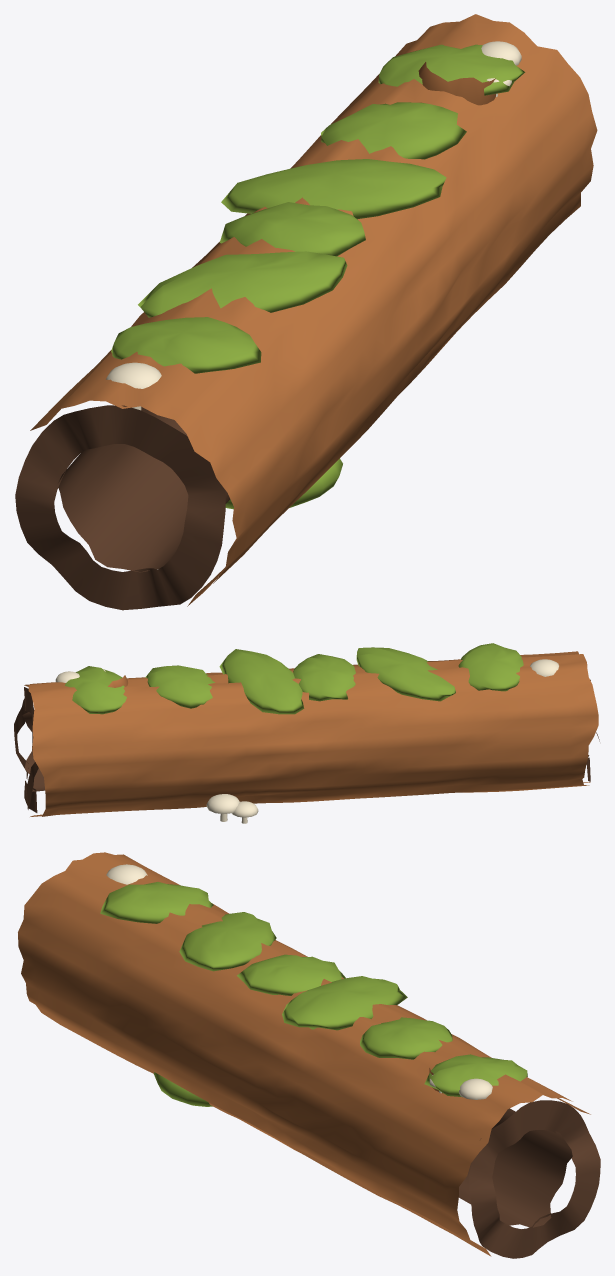
The model's file is GROVE_LOG.glb.
The picture shows the model from 3 angles, top to bottom: view 1: azimuth 30°, elevation 25°; view 2: azimuth 150°, elevation 25°; view 3: azimuth 270°, elevation 25°; orthographic projection. The views are drawn at different scales.
Parts seen in each view (by area): view 1: bark, moss, hollow, mushrooms, stub; view 2: bark, moss, hollow, mushrooms; view 3: bark, moss, hollow, mushrooms.
Part boxes in pixels (x1=…): bark: x1=30, y1=14, x2=597, y2=606; moss: x1=111, y1=44, x2=525, y2=509; hollow: x1=15, y1=405, x2=230, y2=610; mushrooms: x1=106, y1=41, x2=521, y2=410; stub: x1=418, y1=62, x2=495, y2=105; bark: x1=24, y1=651, x2=598, y2=816; moss: x1=65, y1=643, x2=523, y2=714; hollow: x1=14, y1=679, x2=599, y2=812; mushrooms: x1=55, y1=659, x2=558, y2=823; bark: x1=18, y1=852, x2=590, y2=1256; moss: x1=100, y1=882, x2=527, y2=1106; hollow: x1=459, y1=1100, x2=600, y2=1258; mushrooms: x1=106, y1=864, x2=492, y2=1099.
Size of the model in its own units: 18.09 by 4.88 by 15.29.
